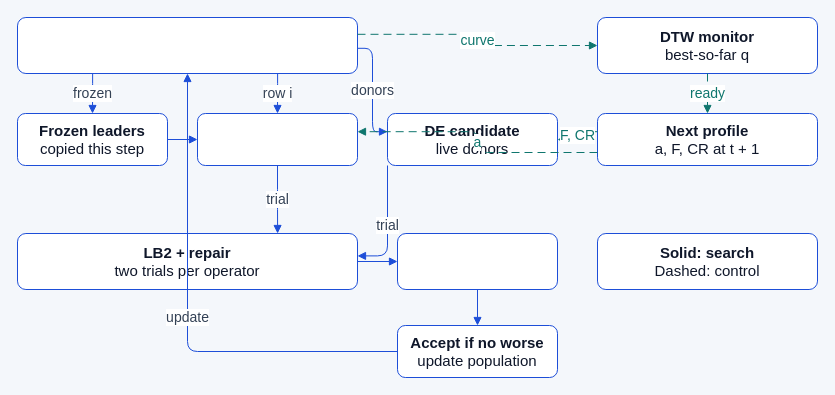
The diagram is 835 pixels wide and 395 high, and some of its shapes have lost their labels. Here are the shapes that lost their labels. From the top down, the centre of each, then its label:
[187,45]: Shared population vector, bits, fitness
[277,139]: GWO candidate guided by a
[477,261]: Operator winner GWO on a tie
